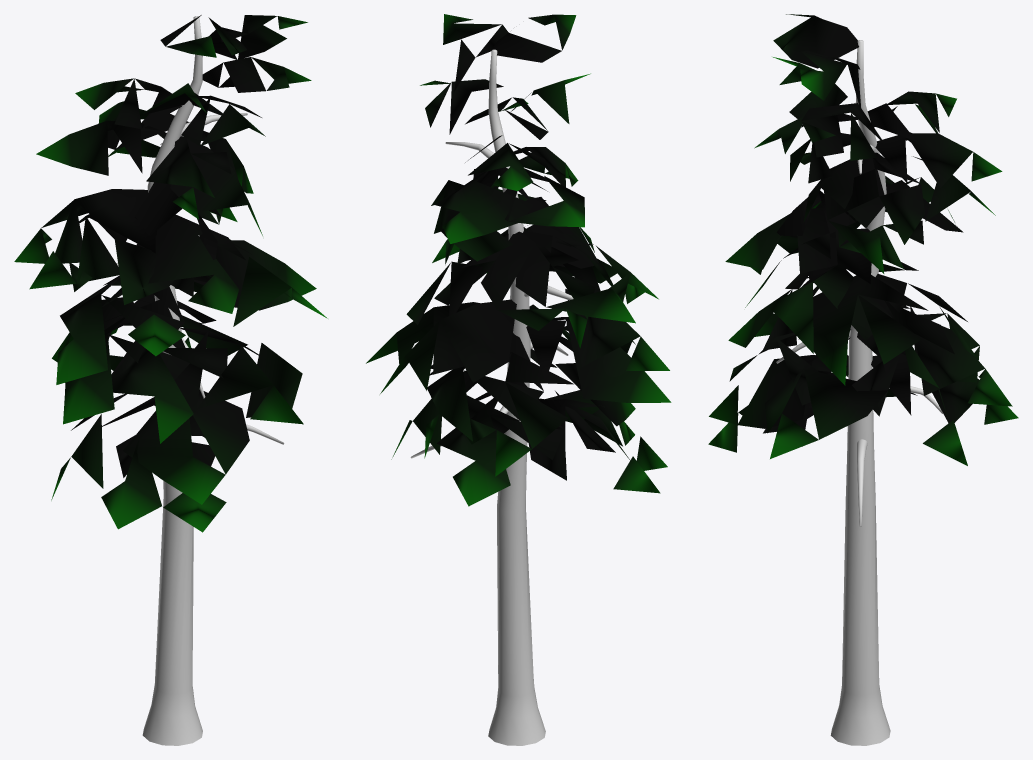
Rendered from tree_2_slim.glb.
The picture shows the model from 3 angles, left to right: view 1: azimuth 30°, elevation 25°; view 2: azimuth 150°, elevation 25°; view 3: azimuth 270°, elevation 25°; orthographic projection. The views are drawn at different scales.
Parts seen in each view (by area): view 1: tree_2_slim; view 2: tree_2_slim; view 3: tree_2_slim.
Part boxes in pixels (x1,y1,x2,y2): tree_2_slim: (14,15,327,745); tree_2_slim: (366,14,671,745); tree_2_slim: (708,14,1018,745).
Bounding box in the file's own units: 2.29 × 5.81 × 2.32.
